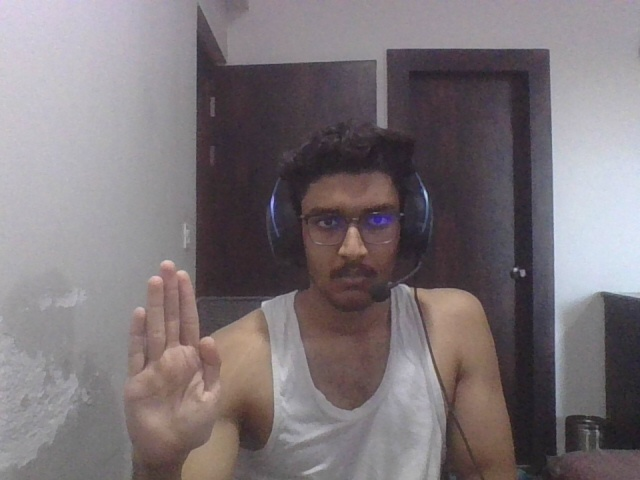Hello: (98, 253, 239, 466)
